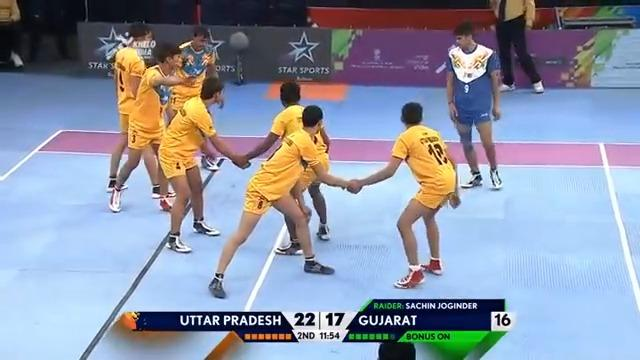Player: (208, 104, 360, 298), (346, 101, 461, 289), (157, 75, 251, 253), (240, 80, 335, 254), (108, 46, 196, 213), (105, 22, 160, 196), (164, 25, 226, 171)
Raider: (444, 20, 503, 189)
referee: (489, 0, 545, 94), (23, 0, 74, 62)
